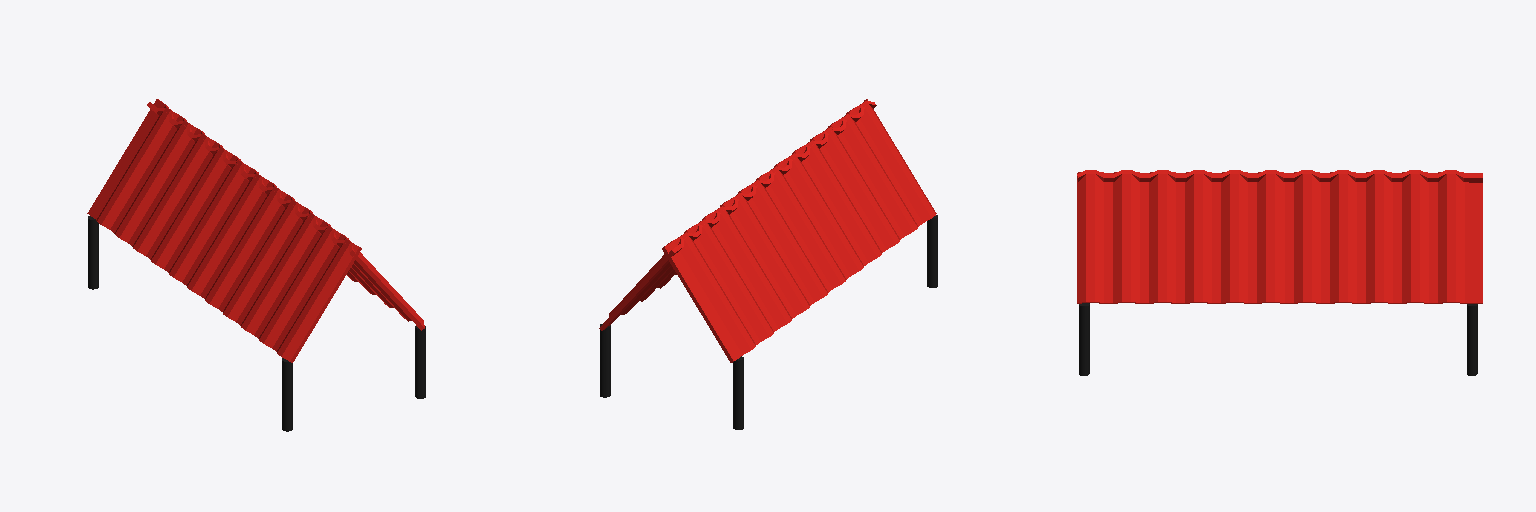
Rendered from roof.obj.
3 views of the same model, side by side, from view 1: azimuth 30°, elevation 25°; view 2: azimuth 150°, elevation 25°; view 3: azimuth 270°, elevation 25° (orthographic).
Visible parts, largest first — view 1: roof_Plane.002; view 2: roof_Plane.002; view 3: roof_Plane.002.
Boxes of the visible parts, x1,y1,x2,y2 form: roof_Plane.002: [87, 99, 425, 431]; roof_Plane.002: [599, 99, 937, 429]; roof_Plane.002: [1077, 170, 1482, 375].
Size of the model in its own units: 1.86 by 2.13 by 4.58.